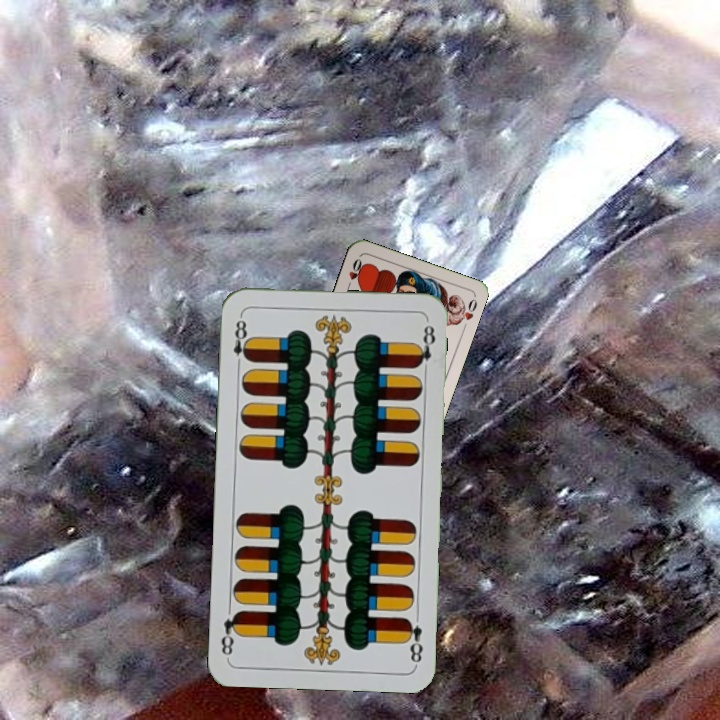E8: (229, 311, 253, 370), (401, 614, 426, 667)
HO: (343, 254, 366, 293)
